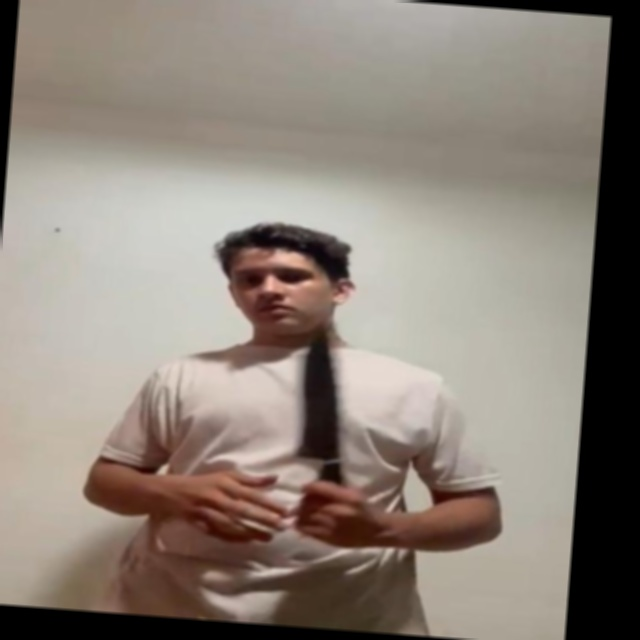Sharp-Object: (292, 320, 355, 464)
